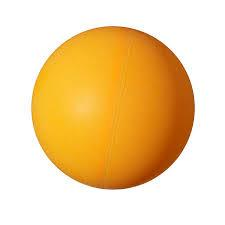oball: (28, 26, 199, 191)
